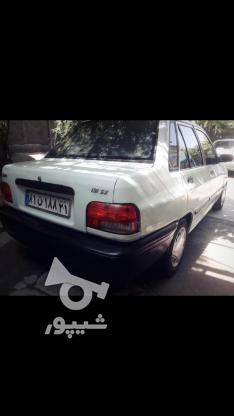car: (23, 190, 75, 218)
